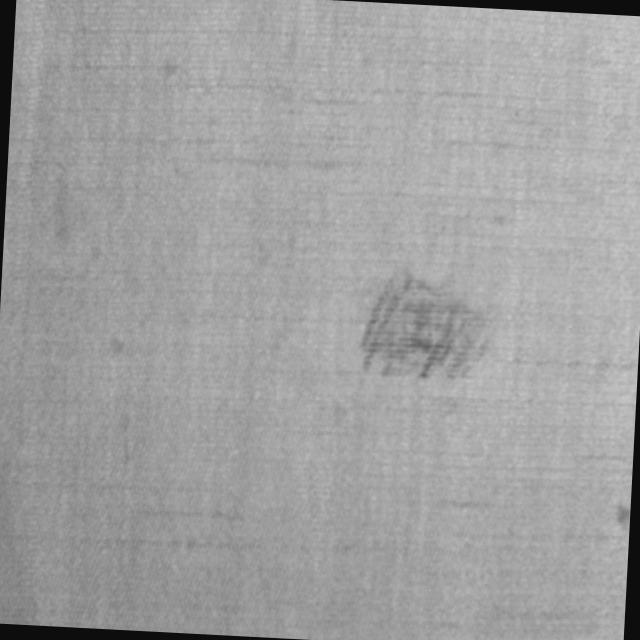oil spot: (354, 260, 500, 388)
